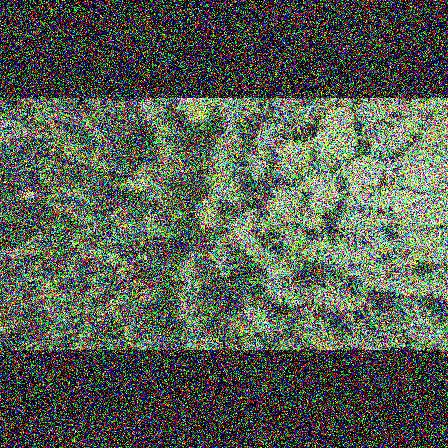Sick: (199, 242, 240, 283), (374, 152, 401, 185), (105, 221, 129, 246), (35, 296, 62, 318)
